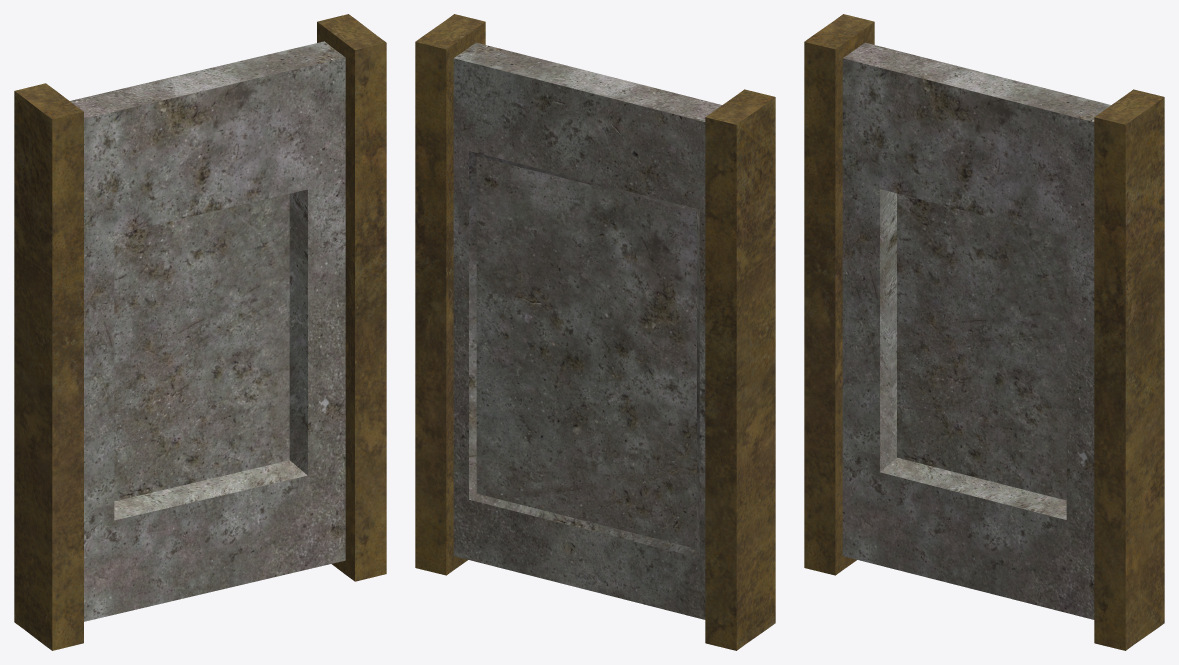
File: mg_12__plate_7.fbx
3 views of the same model, side by side, from view 1: azimuth 30°, elevation 25°; view 2: azimuth 150°, elevation 25°; view 3: azimuth 330°, elevation 25° (orthographic).
Parts seen in each view (by area): view 1: mg_12__plate_4; view 2: mg_12__plate_4; view 3: mg_12__plate_4.
Part boxes in pixels (x1=…): mg_12__plate_4: x1=14, y1=14, x2=386, y2=650; mg_12__plate_4: x1=415, y1=14, x2=775, y2=650; mg_12__plate_4: x1=804, y1=14, x2=1164, y2=650.
Bounding box in the file's own units: 30.08 × 46.25 × 6.86.
